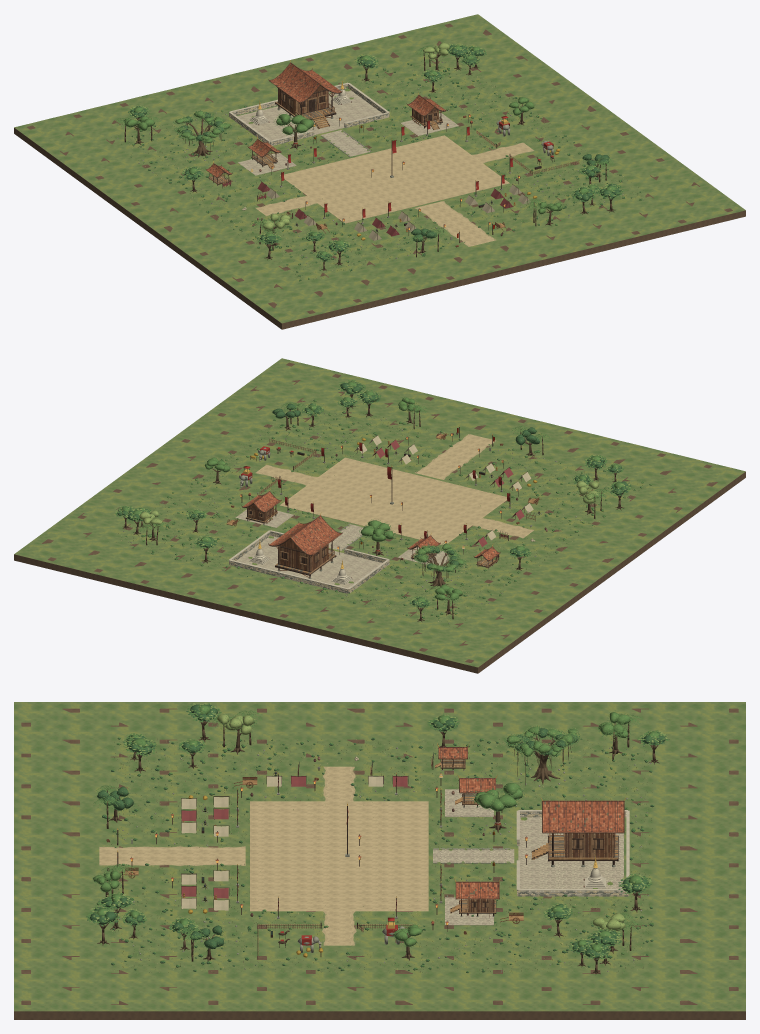
File: guild-hall.glb
3 renders of one model, top to bottom at view 1: azimuth 30°, elevation 25°; view 2: azimuth 150°, elevation 25°; view 3: azimuth 270°, elevation 25°, orthographic. The views are drawn at different scales.
Parts seen in each view (by area): view 1: Ground - varied meadow | grass, Courtyard paving | path, Soil foundation | earth, Courtyard paving | paving, Tracks - worn earth | path, Organic tree foliage | leaf, Roof / overlapping clay tiles | roof, Organic tree foliage | leaf2, Organic understory shrubs | leaf4, Organic understory shrubs | leaf, Fine outer tree leaves | leaf2, Fine outer tree leaves | leaf4 (+9 smaller); view 2: Ground - varied meadow | grass, Courtyard paving | path, Soil foundation | earth, Courtyard paving | paving, Tracks - worn earth | path, Organic tree foliage | leaf, Organic tree foliage | leaf2, Roof / overlapping clay tiles | roof, Organic understory shrubs | leaf2, Fine outer tree leaves | leaf2, Fine outer tree leaves | leaf3, Fine outer tree leaves | leaf4 (+11 smaller); view 3: Ground - varied meadow | grass, Courtyard paving | path, Soil foundation | earth, Courtyard paving | paving, Tracks - worn earth | path, Organic tree foliage | leaf, Roof / overlapping clay tiles | roof, Organic tree foliage | leaf2, Organic understory shrubs | leaf, Fine outer tree leaves | leaf2, Fine outer tree leaves | leaf3, Fine outer tree leaves | leaf4 (+21 smaller).
Boxes of the visible parts, bbox=[...] form: Ground - varied meadow | grass: bbox=[14, 14, 745, 323]; Courtyard paving | path: bbox=[280, 135, 509, 223]; Soil foundation | earth: bbox=[14, 23, 745, 329]; Courtyard paving | paving: bbox=[237, 90, 458, 175]; Tracks - worn earth | path: bbox=[257, 143, 532, 246]; Organic tree foliage | leaf: bbox=[130, 45, 621, 260]; Roof / overlapping clay tiles | roof: bbox=[207, 64, 444, 176]; Organic tree foliage | leaf2: bbox=[124, 45, 615, 256]; Organic understory shrubs | leaf4: bbox=[131, 60, 640, 281]; Organic understory shrubs | leaf: bbox=[131, 60, 641, 280]; Fine outer tree leaves | leaf2: bbox=[125, 44, 623, 261]; Fine outer tree leaves | leaf4: bbox=[128, 42, 623, 260]; Ground - varied meadow | grass: bbox=[14, 358, 745, 667]; Courtyard paving | path: bbox=[280, 457, 506, 545]; Soil foundation | earth: bbox=[14, 362, 745, 673]; Courtyard paving | paving: bbox=[235, 509, 449, 587]; Tracks - worn earth | path: bbox=[257, 434, 532, 537]; Organic tree foliage | leaf: bbox=[117, 381, 627, 606]; Organic tree foliage | leaf2: bbox=[121, 381, 624, 602]; Roof / overlapping clay tiles | roof: bbox=[243, 492, 499, 560]; Organic understory shrubs | leaf2: bbox=[125, 400, 651, 618]; Fine outer tree leaves | leaf2: bbox=[115, 380, 630, 607]; Fine outer tree leaves | leaf3: bbox=[115, 381, 630, 605]; Fine outer tree leaves | leaf4: bbox=[115, 380, 629, 608]; Ground - varied meadow | grass: bbox=[14, 702, 745, 1011]; Courtyard paving | path: bbox=[250, 801, 428, 911]; Soil foundation | earth: bbox=[14, 708, 745, 1019]; Courtyard paving | paving: bbox=[445, 789, 623, 925]; Tracks - worn earth | path: bbox=[99, 766, 352, 945]; Organic tree foliage | leaf: bbox=[89, 704, 665, 958]; Roof / overlapping clay tiles | roof: bbox=[439, 747, 623, 898]; Organic tree foliage | leaf2: bbox=[93, 705, 659, 951]; Organic understory shrubs | leaf: bbox=[102, 737, 653, 972]; Fine outer tree leaves | leaf2: bbox=[87, 703, 667, 958]; Fine outer tree leaves | leaf3: bbox=[88, 703, 667, 957]; Fine outer tree leaves | leaf4: bbox=[86, 703, 668, 959].
Bounding box in the file's own units: 180 × 18.56 × 180.
47 materials, 47 textured.
